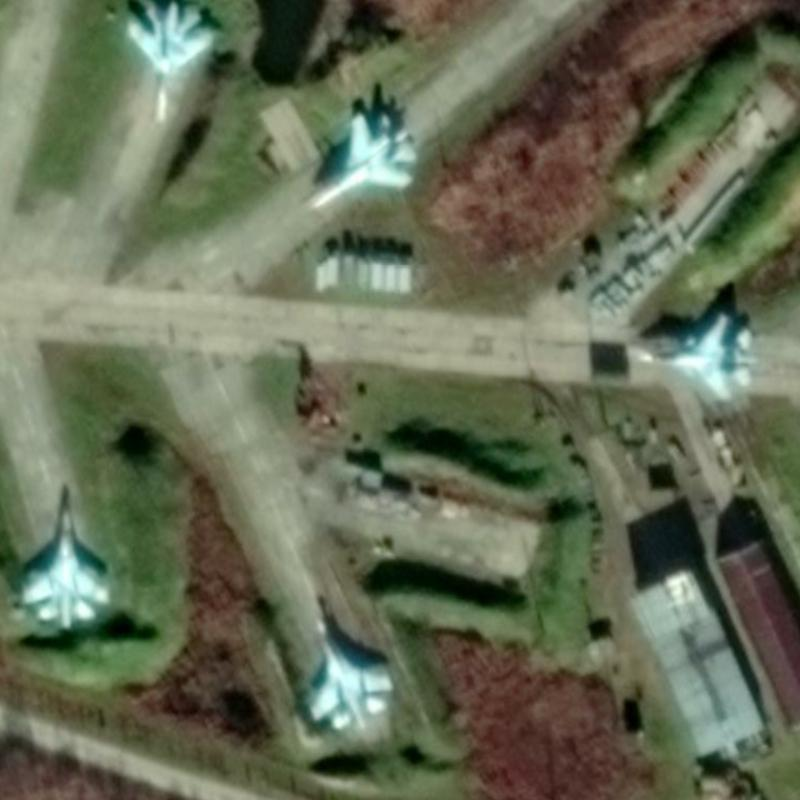A1: (18, 505, 111, 629), (307, 108, 418, 211), (124, 0, 216, 124), (305, 615, 394, 733)
A19: (638, 309, 758, 404)
